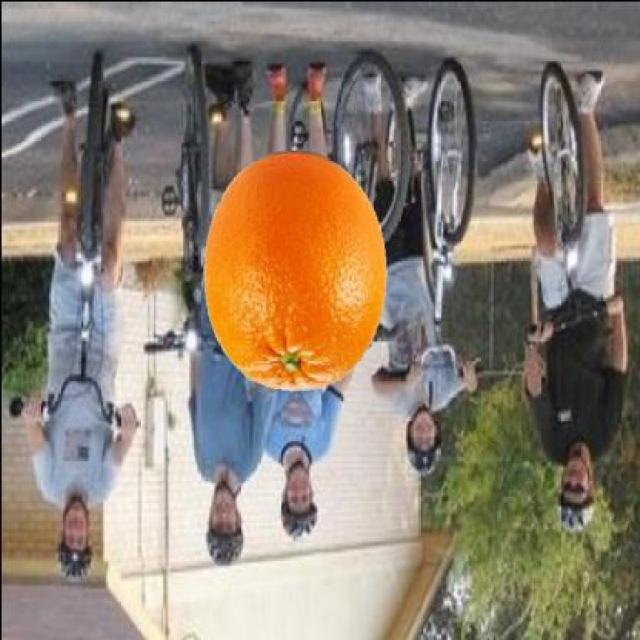Orange: (200, 149, 388, 391)
